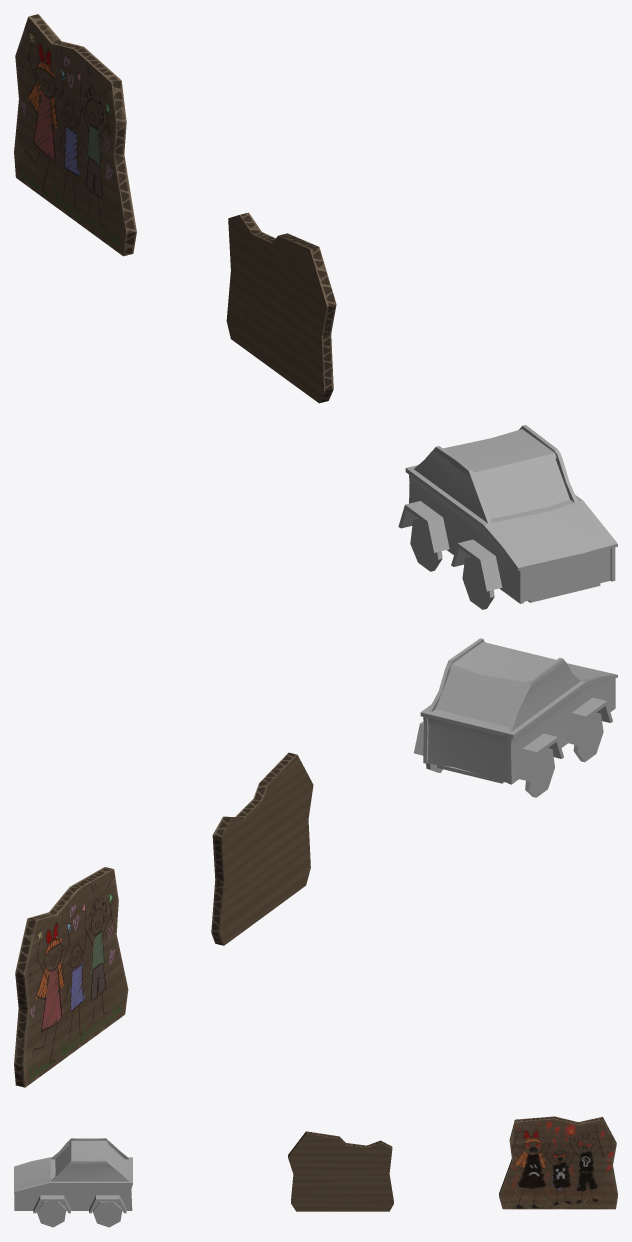
The model's file is crowd1.fbx.
3 views of the same model, one above another, from view 1: azimuth 30°, elevation 25°; view 2: azimuth 150°, elevation 25°; view 3: azimuth 270°, elevation 25° (orthographic). The views are drawn at different scales.
Parts seen in each view (by area): view 1: pCube1, pCube2, car_lp:pCube1, car_lp:pCube2, car_lp:pCube12, car_lp:pCube13, car_lp:pCylinder1, car_lp:pCylinder2; view 2: pCube1, pCube2, car_lp:pCube1, car_lp:pCube2, car_lp:pCube13, car_lp:pCube12, car_lp:pCylinder1, car_lp:pCylinder2; view 3: pCube1, pCube2, car_lp:pCube1, car_lp:pCube2, car_lp:pCylinder3, car_lp:pCylinder4, car_lp:pCube7, car_lp:pCube11.
Part boxes in pixels (box(x1,y1,x2,y2)): pCube1: box(14, 14, 136, 256); pCube2: box(226, 212, 336, 403); car_lp:pCube1: box(405, 465, 617, 603); car_lp:pCube2: box(414, 425, 577, 523); car_lp:pCube12: box(398, 501, 449, 552); car_lp:pCube13: box(451, 539, 502, 591); car_lp:pCylinder1: box(410, 518, 442, 571); car_lp:pCylinder2: box(462, 556, 494, 609); pCube1: box(14, 867, 128, 1087); pCube2: box(211, 752, 313, 945); car_lp:pCube1: box(420, 663, 617, 784); car_lp:pCube2: box(428, 638, 580, 731); car_lp:pCube13: box(565, 697, 612, 745); car_lp:pCube12: box(516, 733, 563, 781); car_lp:pCylinder1: box(525, 748, 554, 797); car_lp:pCylinder2: box(573, 712, 603, 762); pCube1: box(499, 1116, 617, 1209); pCube2: box(288, 1131, 393, 1211); car_lp:pCube1: box(14, 1157, 132, 1210); car_lp:pCube2: box(51, 1138, 129, 1181); car_lp:pCylinder3: box(37, 1201, 66, 1227); car_lp:pCylinder4: box(93, 1201, 122, 1227); car_lp:pCube7: box(33, 1195, 70, 1213); car_lp:pCube11: box(89, 1195, 126, 1213).
Bounding box in the file's own units: 2.27 × 3.31 × 17.87.
3 materials, 2 textured.
